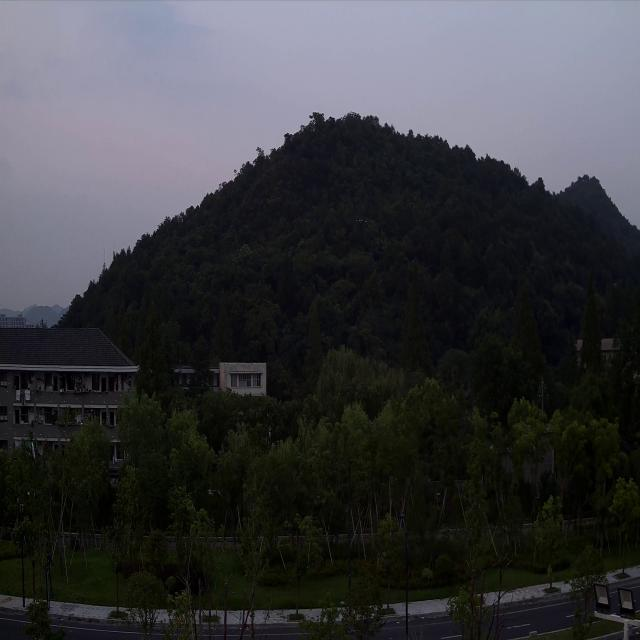UAV: (355, 218, 368, 226)
